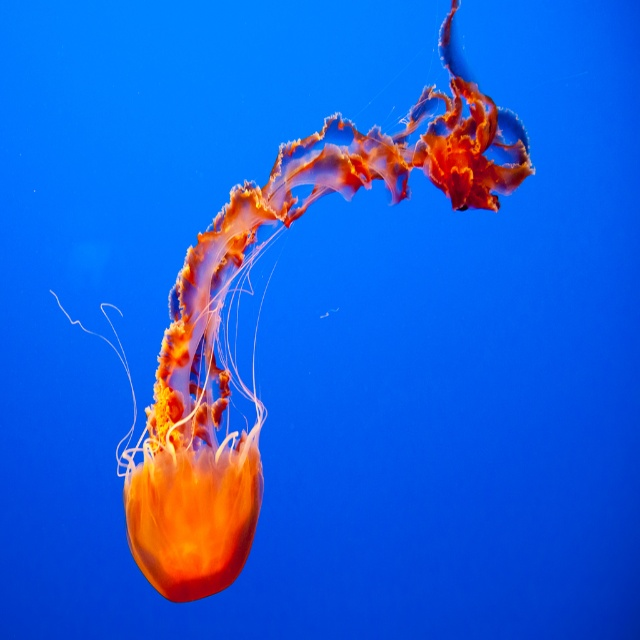Jellyfish: (111, 23, 522, 594)
